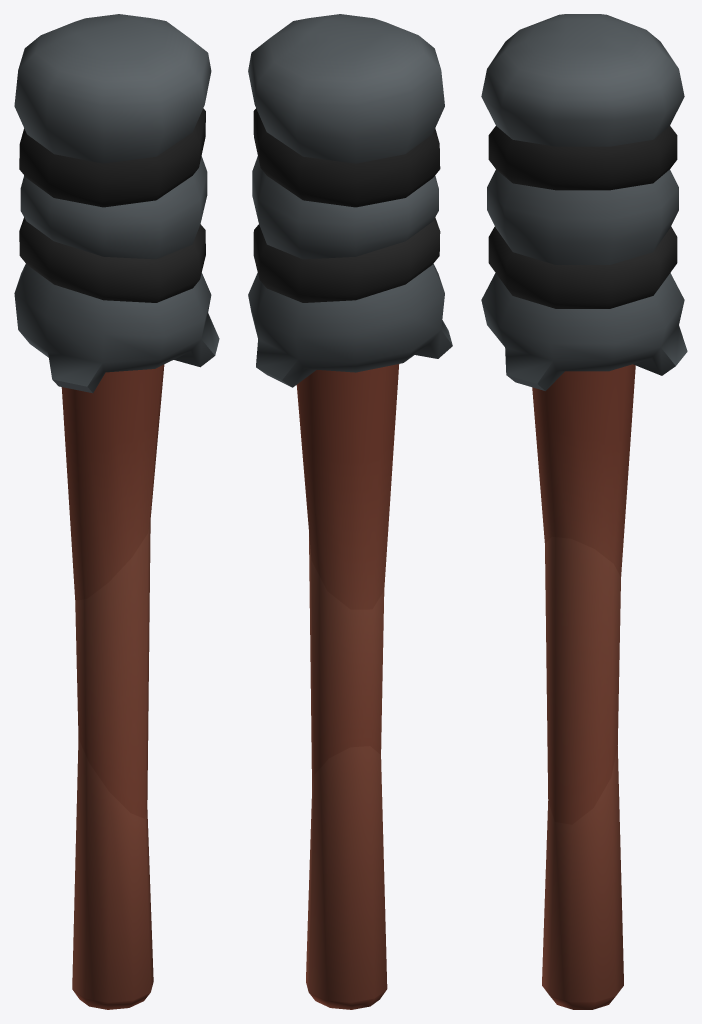
The model's file is torch_burnt.glb.
3 renders of one model, left to right at view 1: azimuth 30°, elevation 25°; view 2: azimuth 150°, elevation 25°; view 3: azimuth 270°, elevation 25°, orthographic.
Parts seen in each view (by area): view 1: torch_burnt; view 2: torch_burnt; view 3: torch_burnt.
Boxes of the visible parts, x1,y1,x2,y2 form: torch_burnt: [14, 14, 219, 1009]; torch_burnt: [248, 14, 452, 1009]; torch_burnt: [481, 14, 687, 1009].
Size of the model in its own units: 0.2109 by 1.17 by 0.2254.
Materials: 1 (1 with a texture image).
